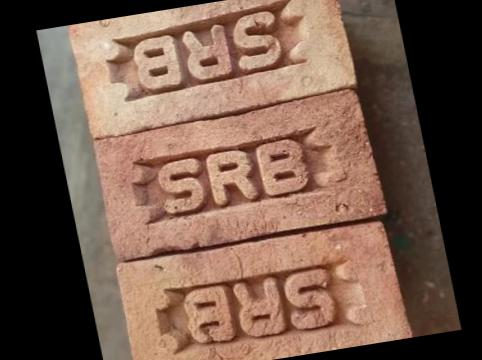brick: (86, 86, 394, 258), (111, 215, 415, 360), (68, 0, 362, 137)
